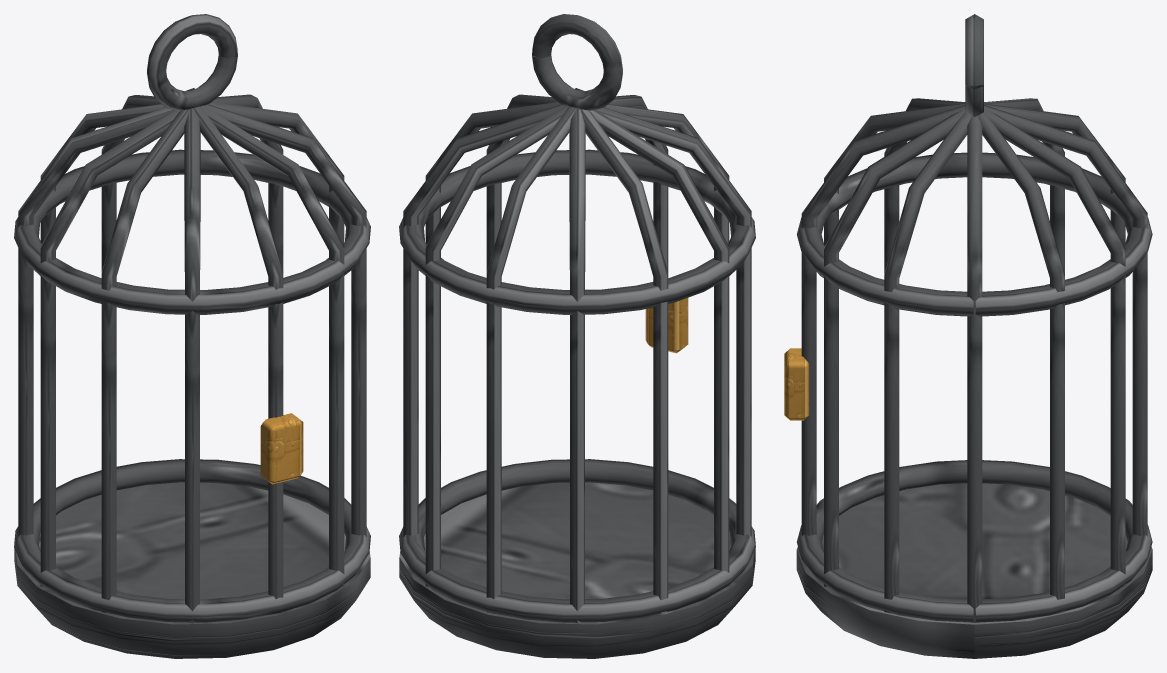
Rendered from SM_Cage.glb.
3 views of the same model, side by side, from view 1: azimuth 30°, elevation 25°; view 2: azimuth 150°, elevation 25°; view 3: azimuth 270°, elevation 25° (orthographic).
Parts seen in each view (by area): view 1: SM_Cage; view 2: SM_Cage; view 3: SM_Cage.
Boxes of the visible parts, <box> form: SM_Cage: <box>14,14,370,658</box>; SM_Cage: <box>399,14,755,658</box>; SM_Cage: <box>784,14,1152,658</box>.
Bounding box in the file's own units: 0.86 × 1.53 × 0.89.
Materials: 1 (1 with a texture image).
